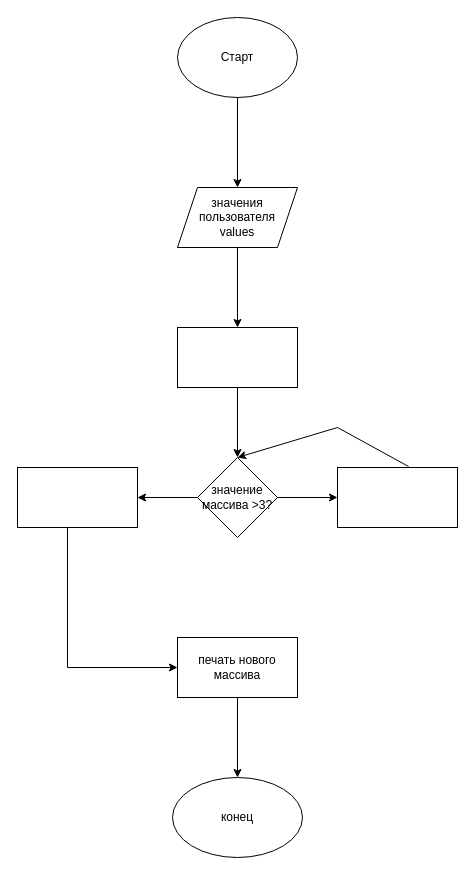
Image size: 475x875. Some labels were removed from this diagram. The shapes that lost their labels are listed below. From the top down, each one's centre as x and y in pixels, then its label:
At (x=237, y=357): "создание массива из values".
At (x=77, y=497): "значение помещается в новый массив".
At (x=397, y=497): "значение не помещается в новый массив".
